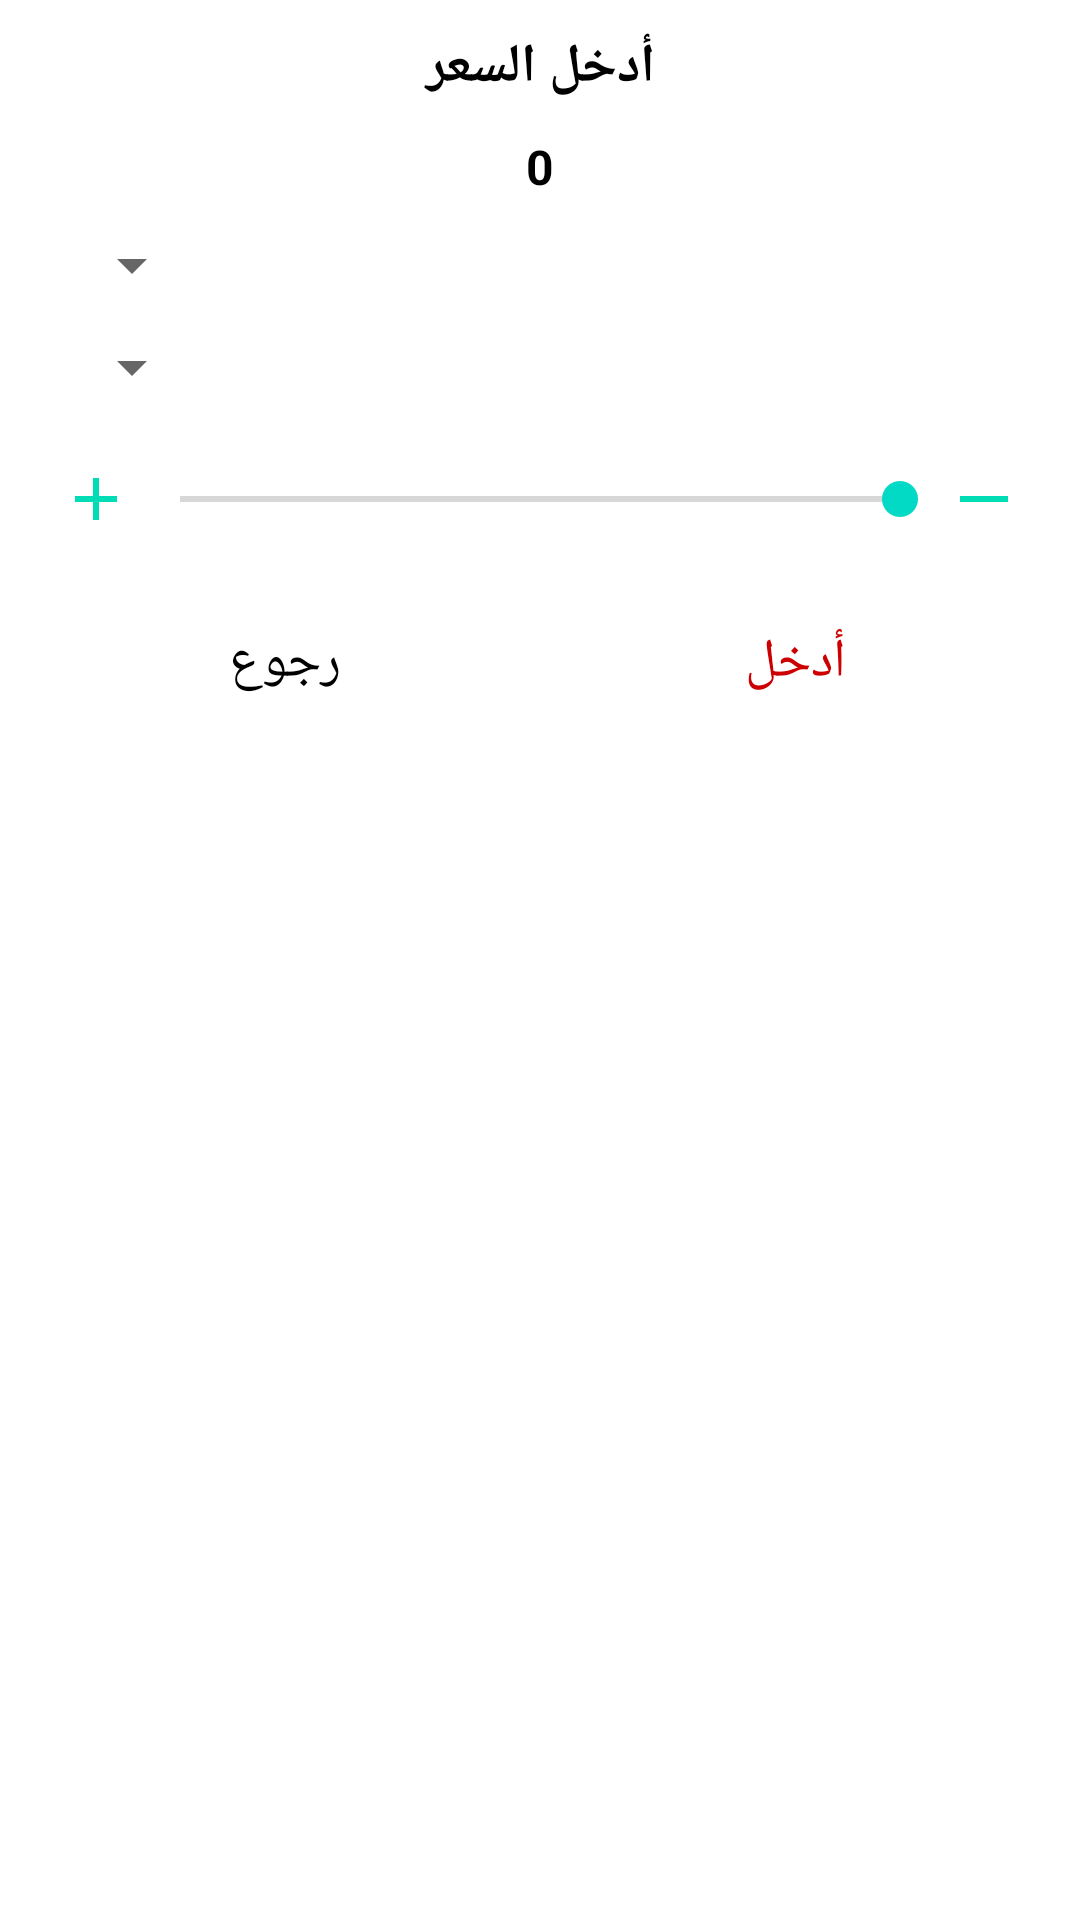

Screen size 1080w x 1920h. Icon name, then its center in pixels as point (x, y):
price plus: point (96, 499)
